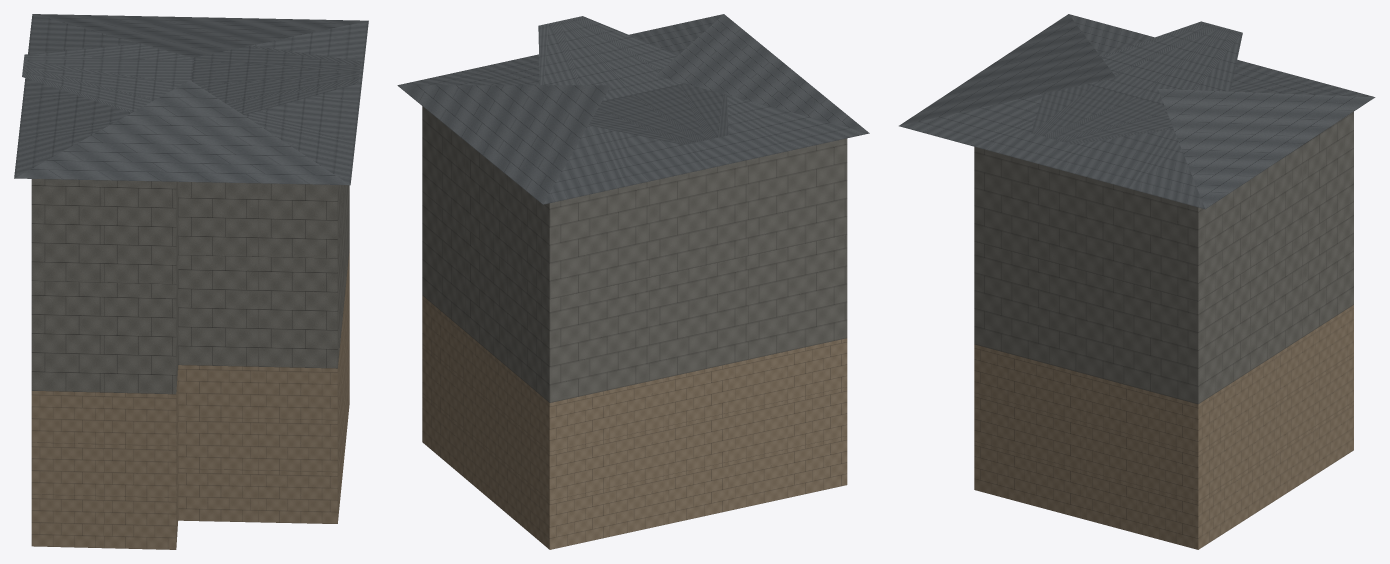
Rendered from bld_c31_-38_467.gltf.
3 renders of one model, left to right at view 1: azimuth 30°, elevation 25°; view 2: azimuth 150°, elevation 25°; view 3: azimuth 270°, elevation 25°, orthographic. The views are drawn at different scales.
Visible parts, largest first — view 1: bld_c31_-38_467; view 2: bld_c31_-38_467; view 3: bld_c31_-38_467.
Boxes of the visible parts, box(x1,y1,x2,y2) form: bld_c31_-38_467: box(14, 14, 368, 549); bld_c31_-38_467: box(397, 14, 869, 549); bld_c31_-38_467: box(899, 14, 1375, 549).
Bounding box in the file's own units: 14.67 × 13.3 × 15.15.
3 materials, 3 textured.
